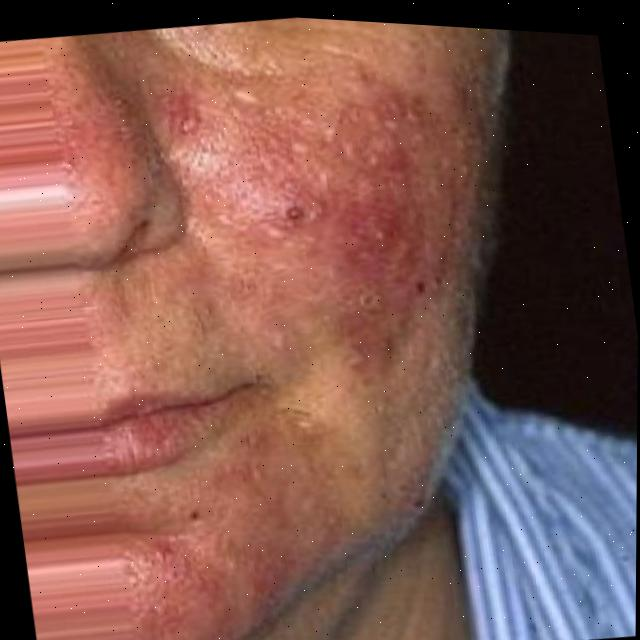Rosacea: (233, 51, 499, 396), (46, 36, 166, 200)
